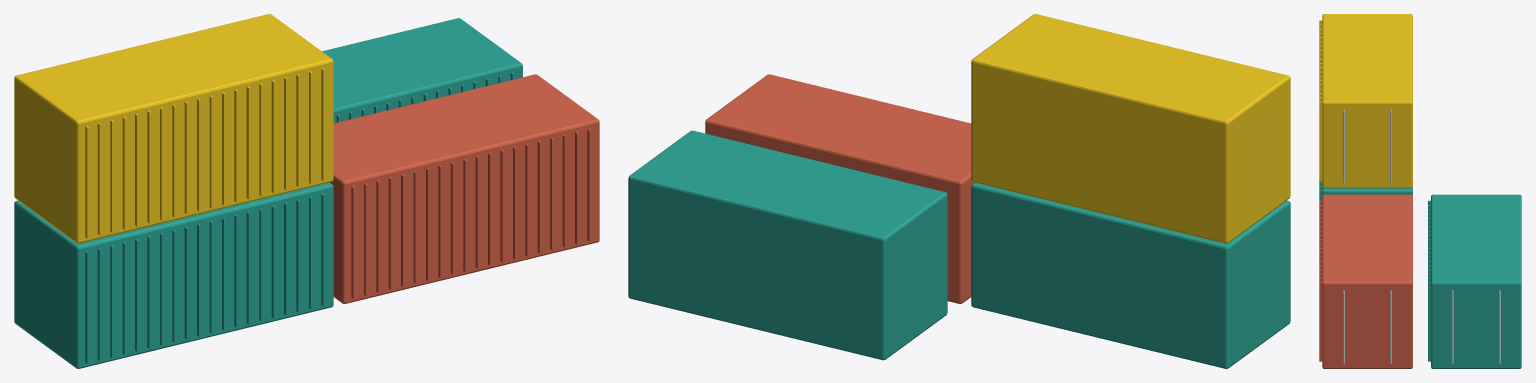
Rendered from container-stack.glb.
3 views of the same model, side by side, from view 1: azimuth 30°, elevation 25°; view 2: azimuth 150°, elevation 25°; view 3: azimuth 270°, elevation 25° (orthographic). The views are drawn at different scales.
Visible parts, largest first — view 1: DC_Mesh_DC_Yellow, DC_Mesh_DC_Teal, DC_Mesh_DC_Coral; view 2: DC_Mesh_DC_Teal, DC_Mesh_DC_Yellow, DC_Mesh_DC_Coral; view 3: DC_Mesh_DC_Teal, DC_Mesh_DC_Coral, DC_Mesh_DC_Yellow, DC_Mesh_DC_Silver.
Part boxes in pixels (x1,y1,x2,y2): DC_Mesh_DC_Yellow: (14,14,333,243); DC_Mesh_DC_Teal: (14,18,522,368); DC_Mesh_DC_Coral: (330,74,599,303); DC_Mesh_DC_Teal: (628,130,1290,368); DC_Mesh_DC_Yellow: (971,14,1290,243); DC_Mesh_DC_Coral: (705,74,974,303); DC_Mesh_DC_Teal: (1319,181,1521,368); DC_Mesh_DC_Coral: (1319,194,1412,368); DC_Mesh_DC_Yellow: (1319,14,1412,188); DC_Mesh_DC_Silver: (1343,110,1500,363).
Size of the model in its own units: 11.89 by 5.35 by 5.58.
